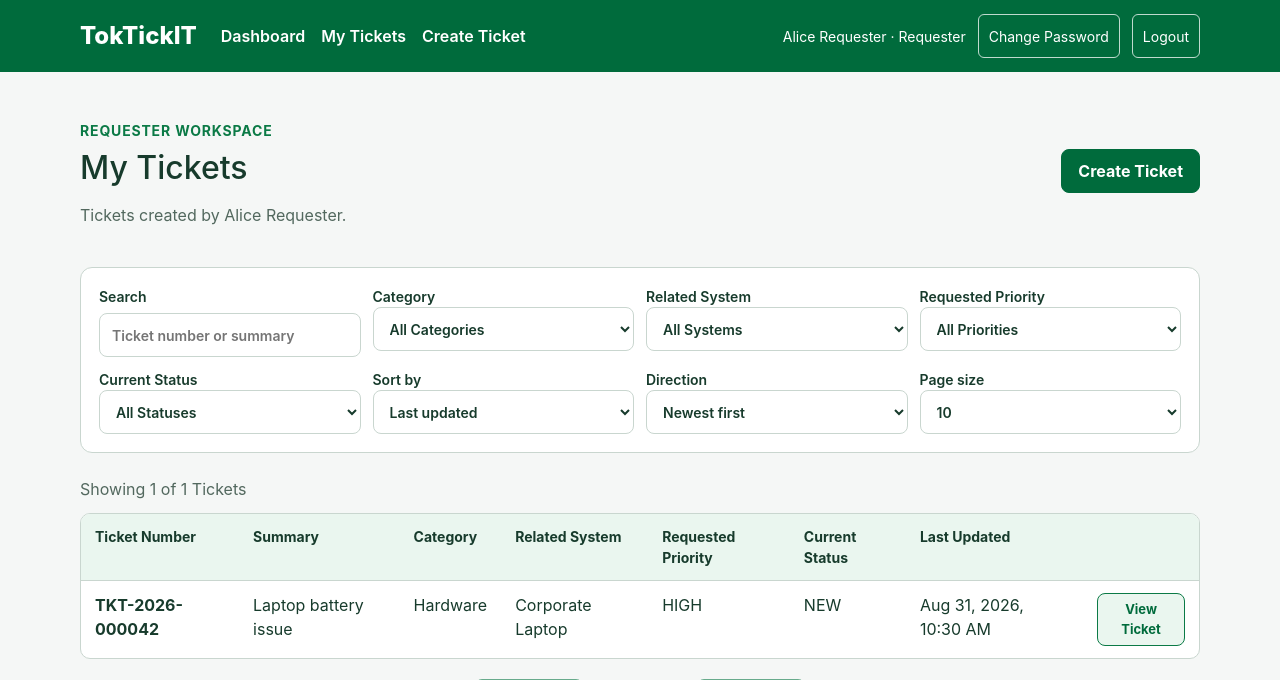
Test case: Requester Ticket Detail screen › shows a safe failure and retries the same owned Ticket
This screenshot has width=1280, height=680.
expect the table is shown: met, box [81,514,1199,658]
Click the button "View Ticket": click(1141, 620) [1097,593,1185,646]
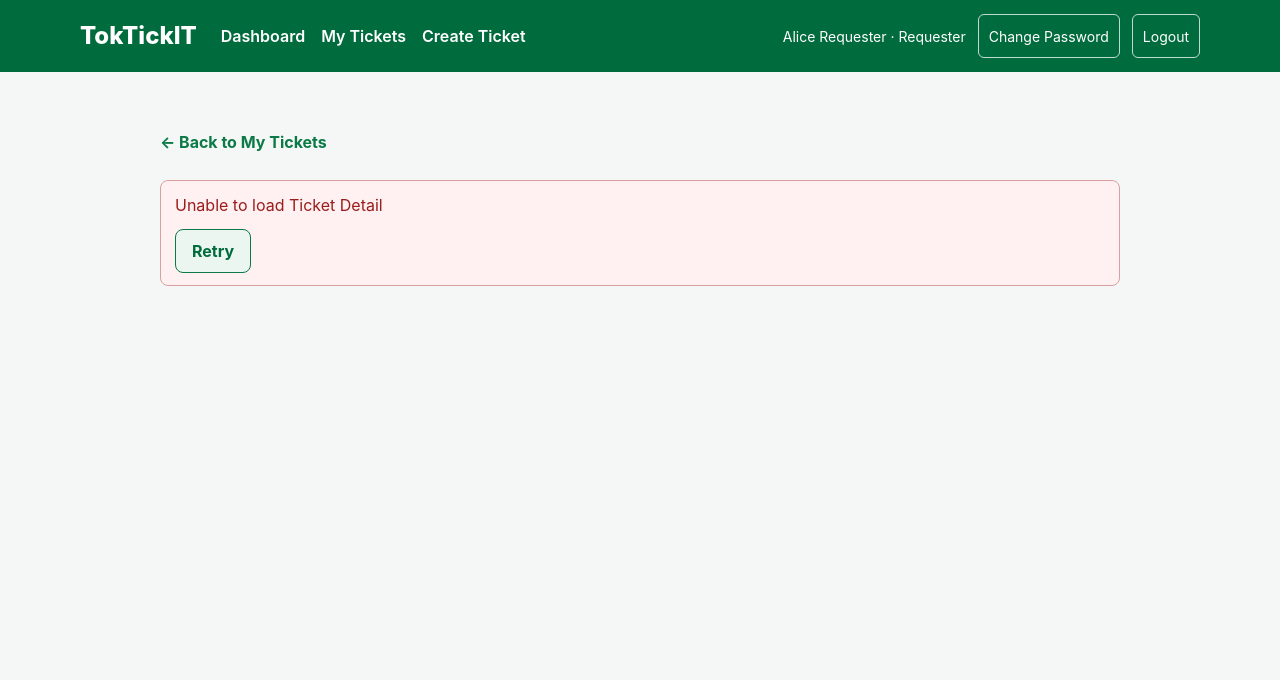
expect the message shows "Unable to load Ticket Detail": met, box [175,195,383,215]
Click the button "Retry": click(213, 251) [175,229,251,273]
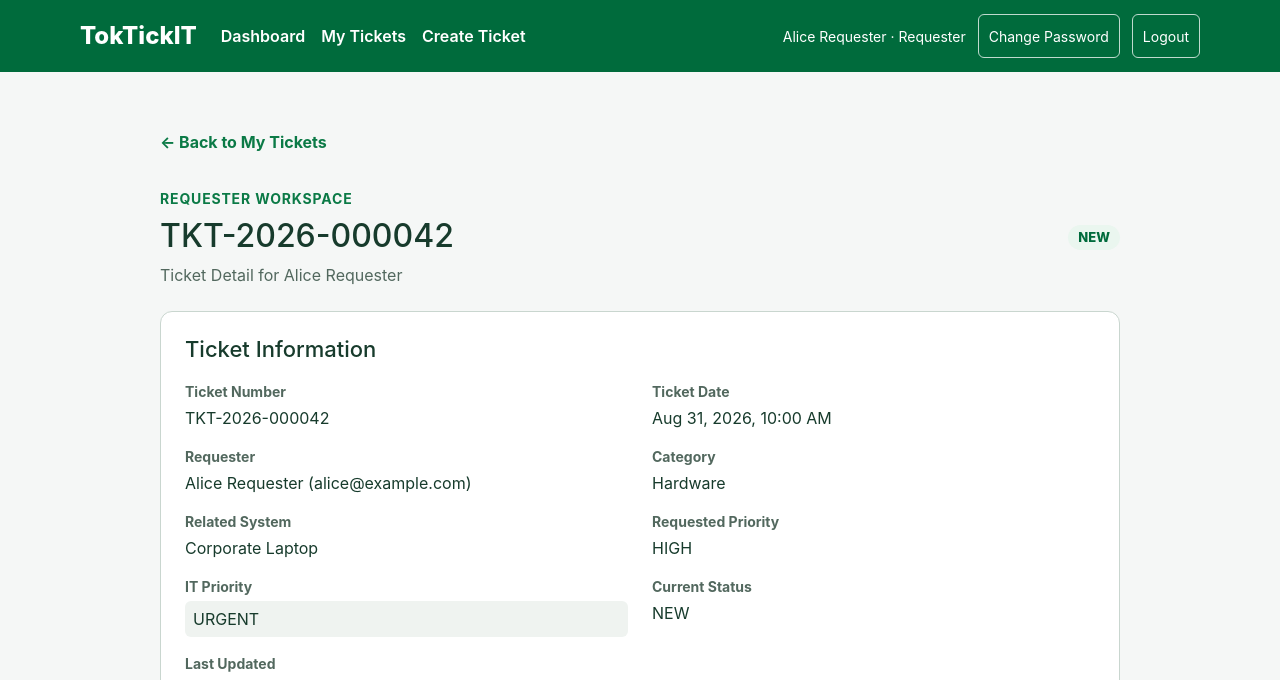
expect the heading "TKT-2026-000042" is shown: met, box [160,217,454,255]
